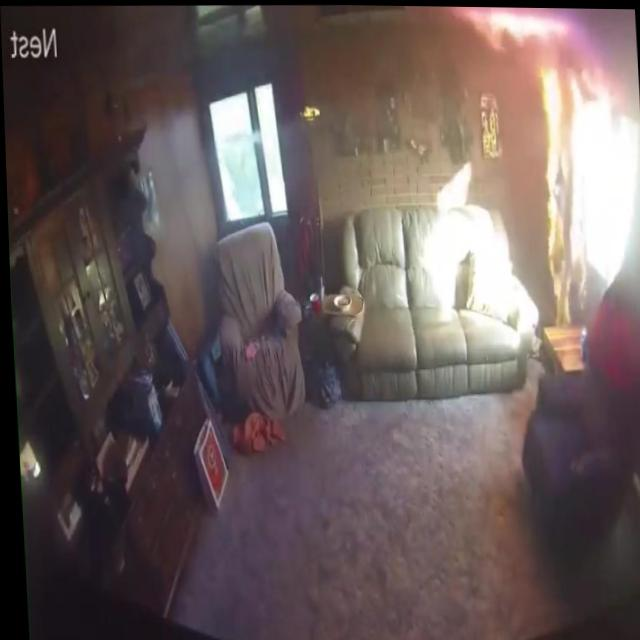fire: (535, 50, 595, 323), (454, 5, 588, 51)
